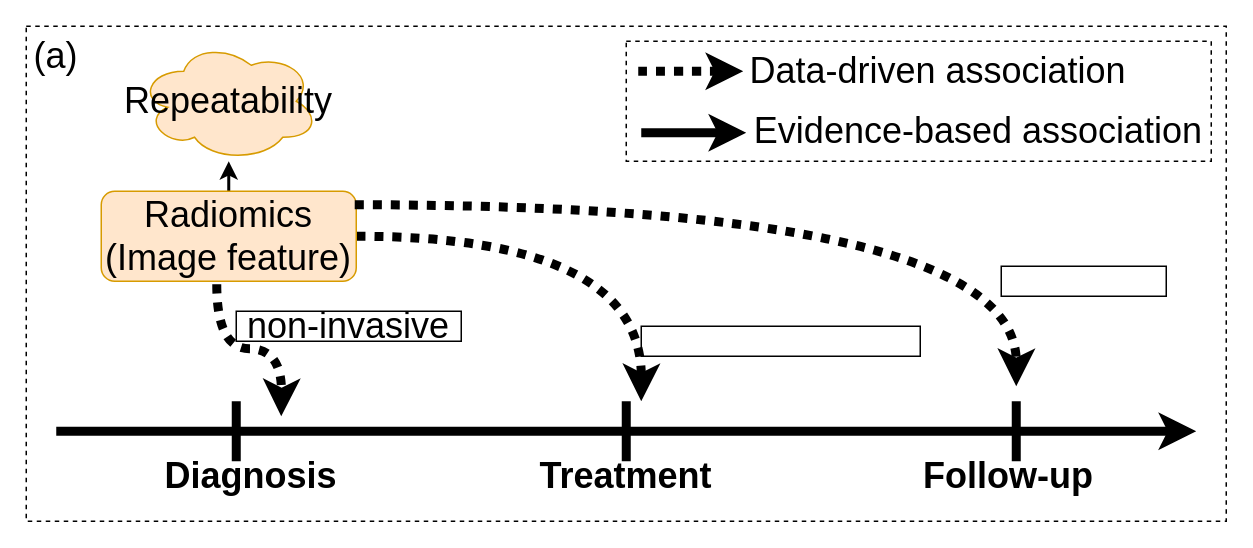
This 1253x548 diagram has some shape labels left out. Here are the shapes that lost their labels. From the top down, the centre of each, then its label:
At (1083,280): "Prognosis".
At (780,340): "Treatment-guide".
